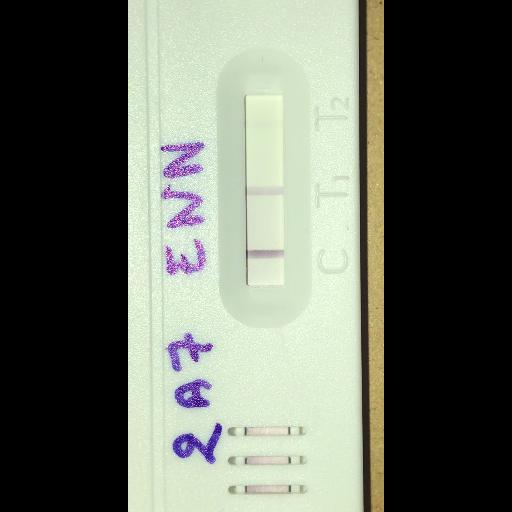Pos: (128, 0, 362, 511)
